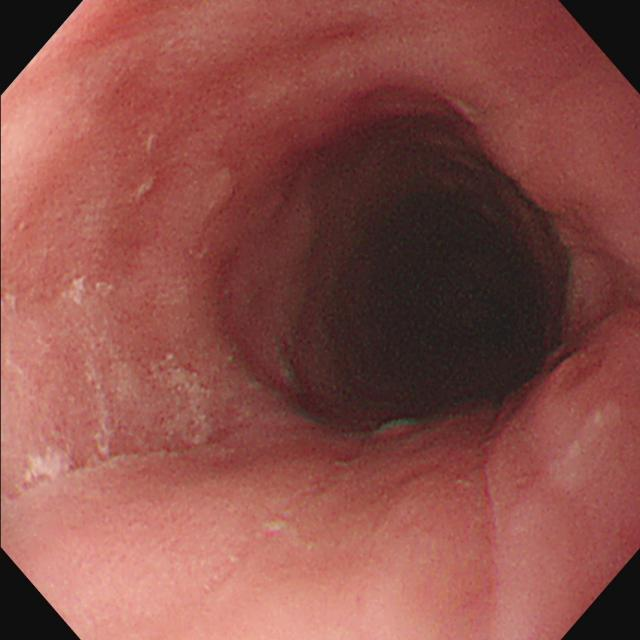E: (284, 150, 568, 445)
J: (153, 354, 209, 448), (3, 278, 115, 311), (81, 361, 116, 462), (21, 451, 76, 484)
